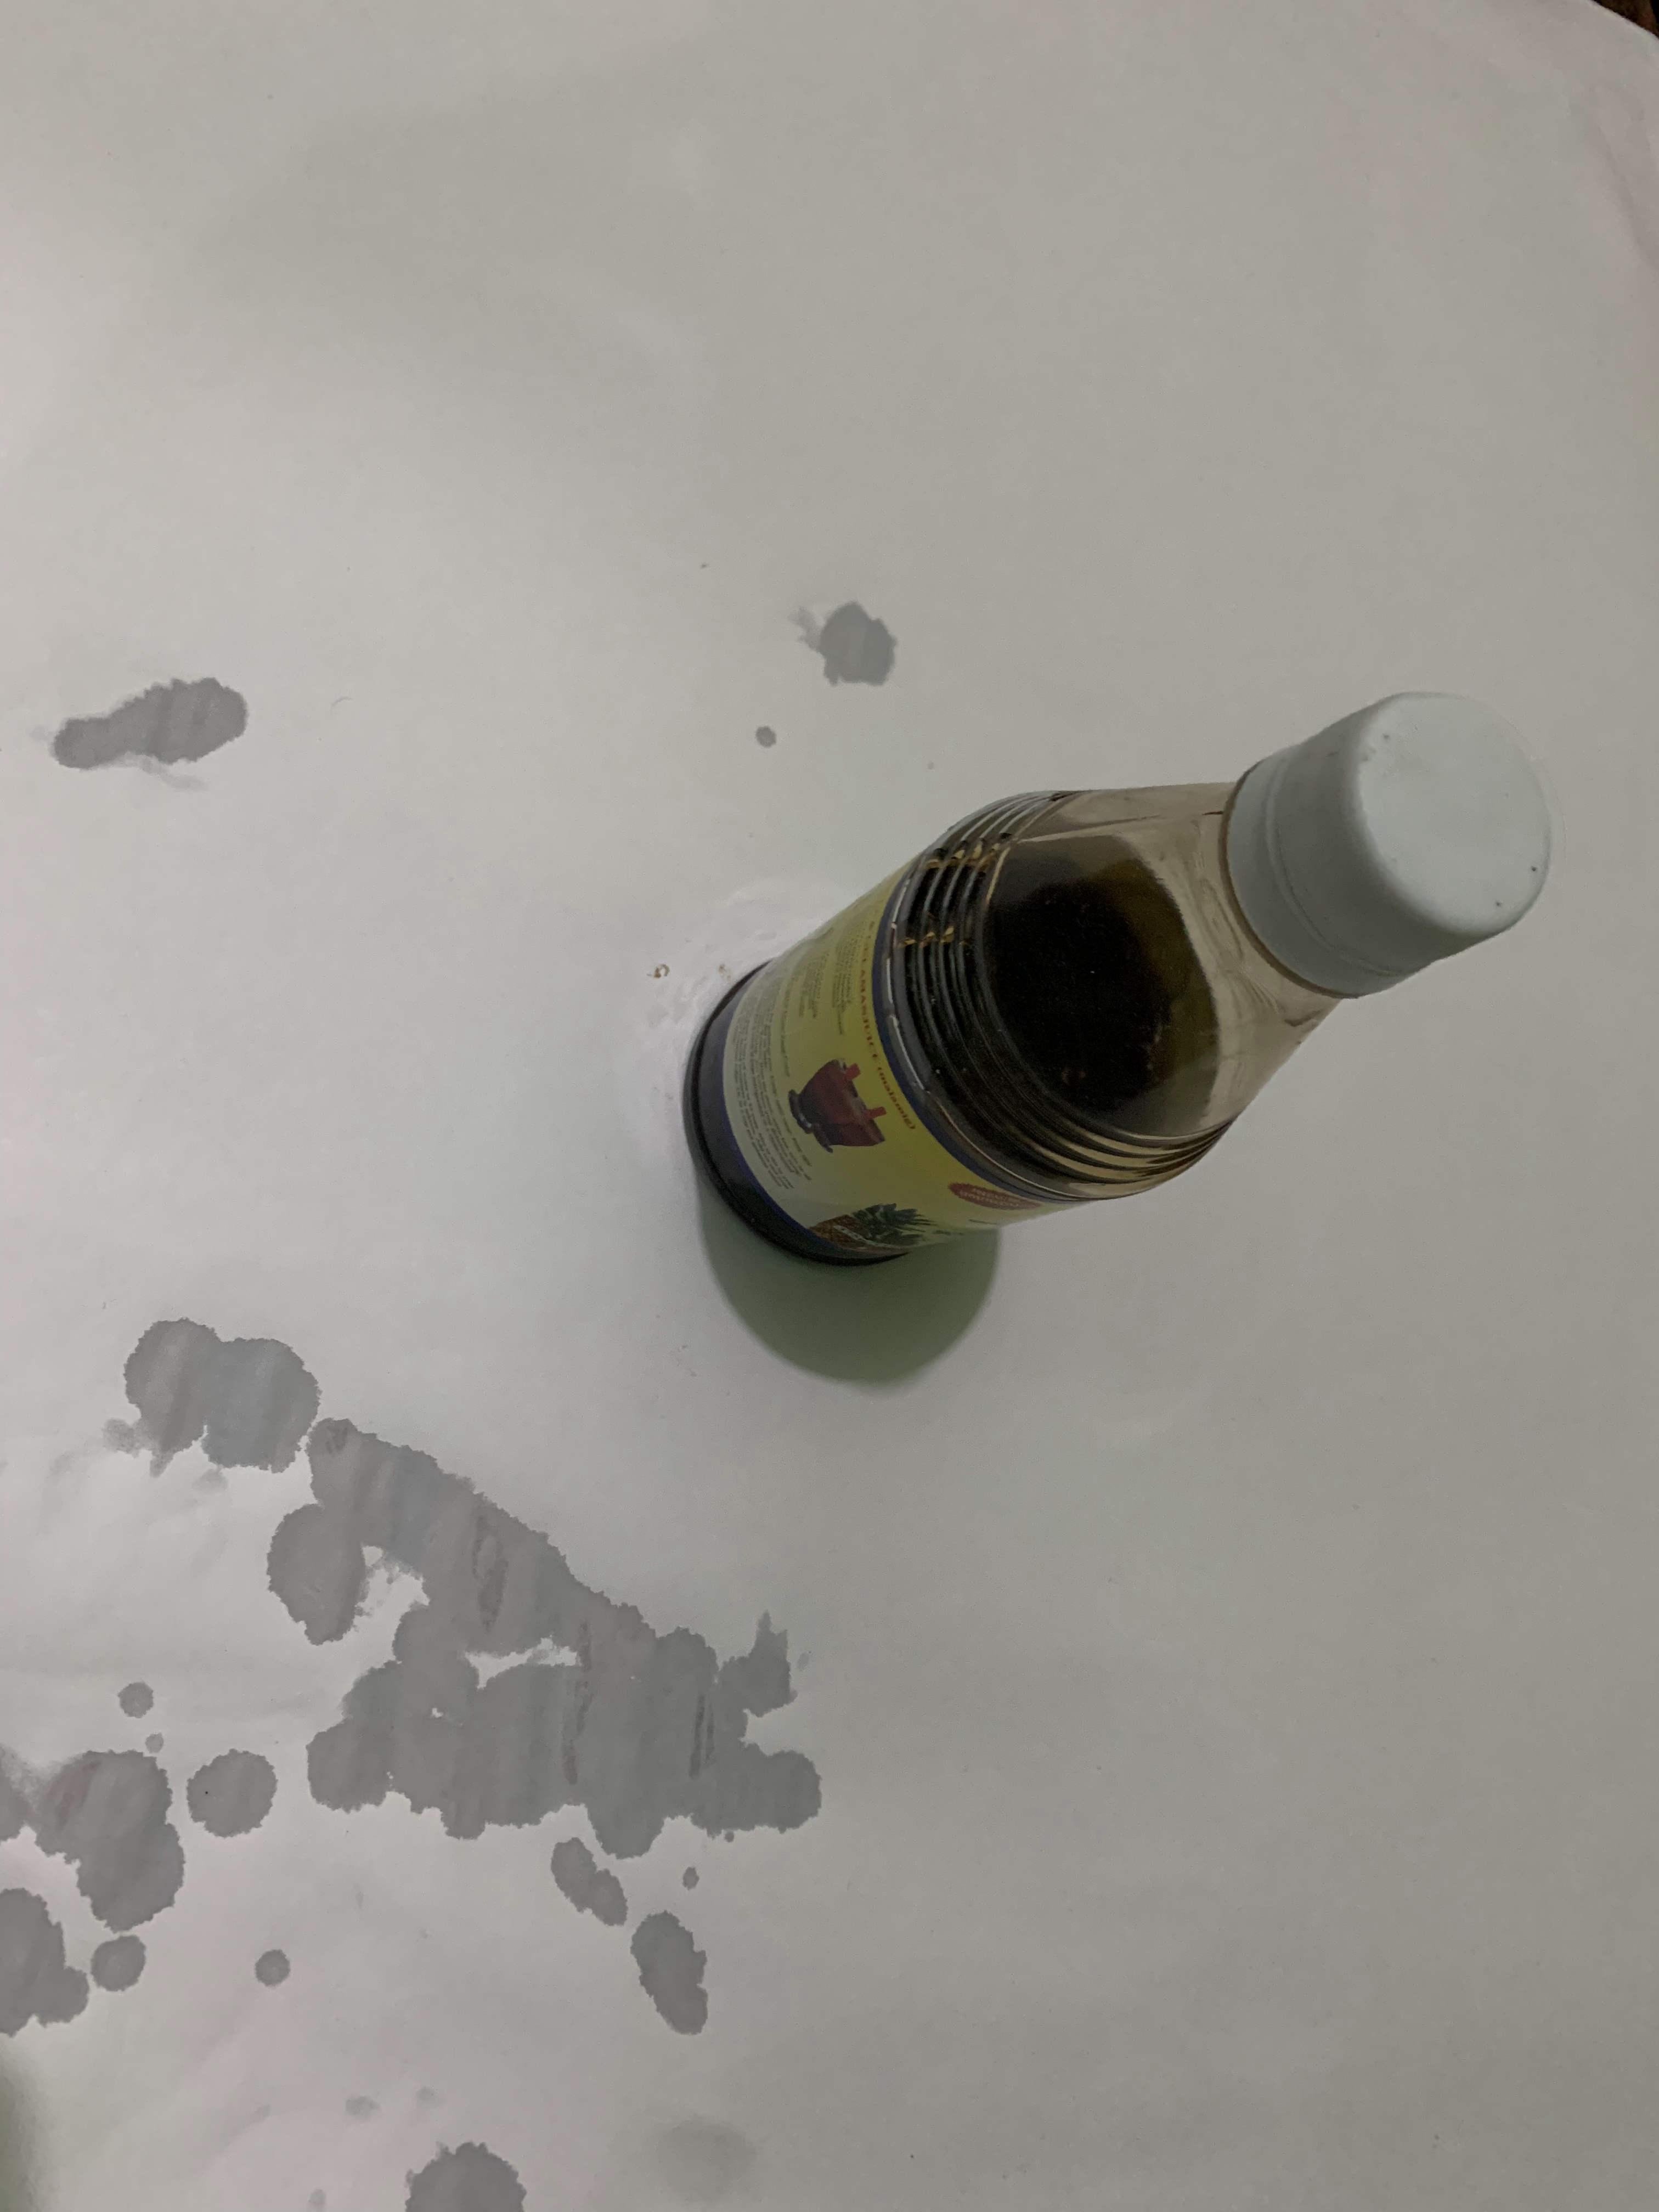bottle: (1094, 674, 1148, 1273)
